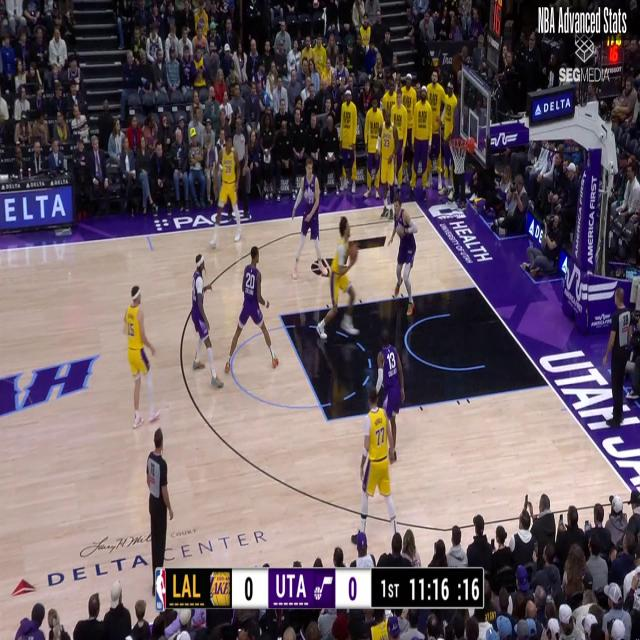ball: (346, 242, 360, 264)
judge: (602, 290, 634, 423), (146, 437, 174, 589)
player: (226, 245, 277, 376), (317, 219, 359, 345), (123, 284, 160, 426), (358, 402, 398, 528), (190, 257, 226, 396), (292, 158, 326, 278), (372, 326, 404, 453), (387, 196, 418, 324), (210, 132, 244, 244), (377, 112, 398, 214)
